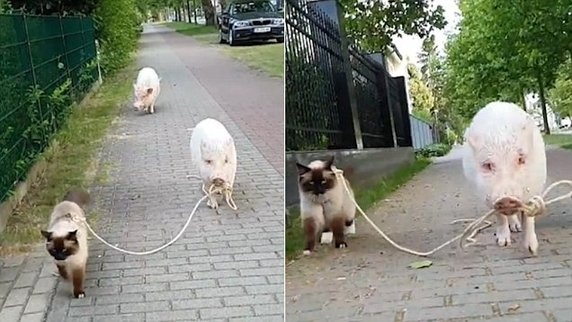cat: (296, 157, 355, 255), (40, 187, 89, 299)
